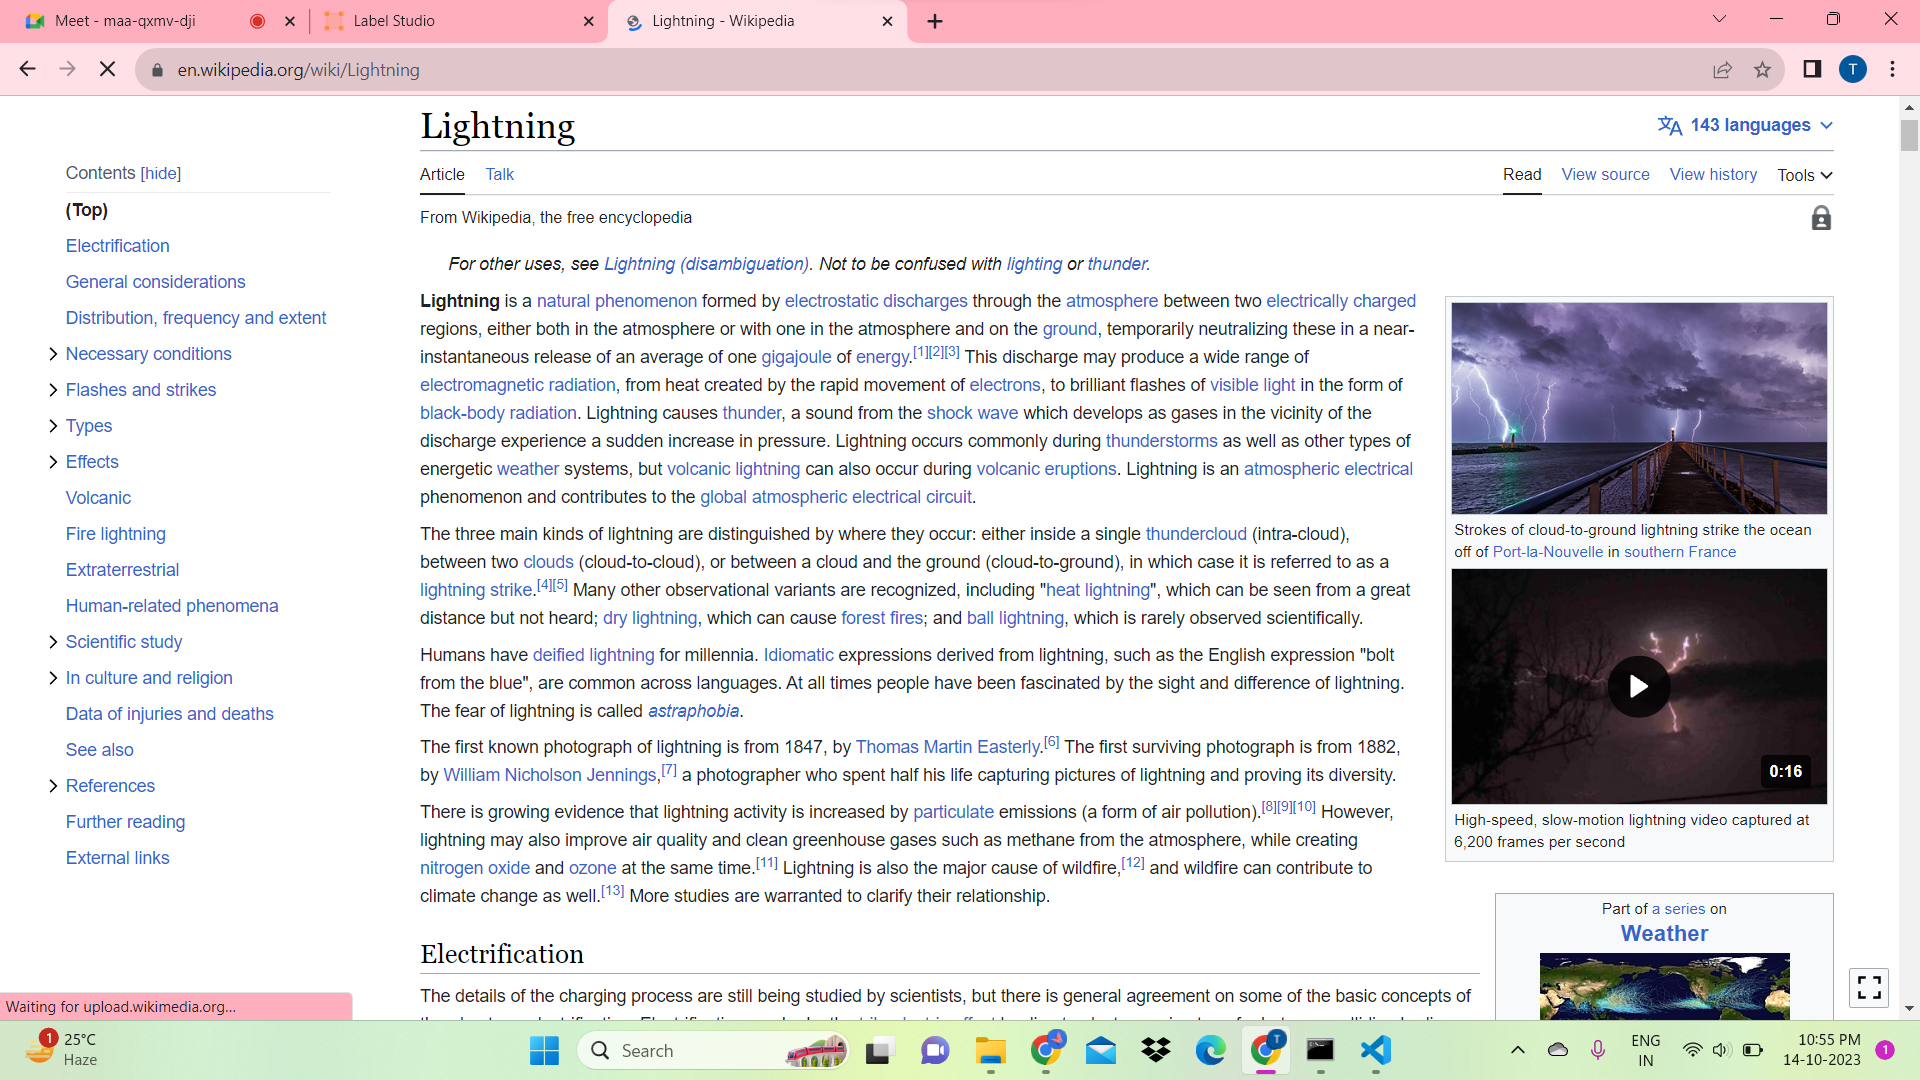Image: (1439, 554, 1851, 807), (1439, 289, 1836, 518), (1482, 885, 1812, 1018)
Paragraph: (394, 281, 1425, 910), (410, 980, 1480, 1022), (54, 265, 345, 407), (50, 589, 315, 729), (442, 244, 1180, 285), (57, 418, 194, 583), (50, 740, 207, 869), (411, 199, 715, 237), (404, 102, 596, 145), (69, 196, 193, 257), (406, 930, 607, 967), (51, 160, 199, 186)
